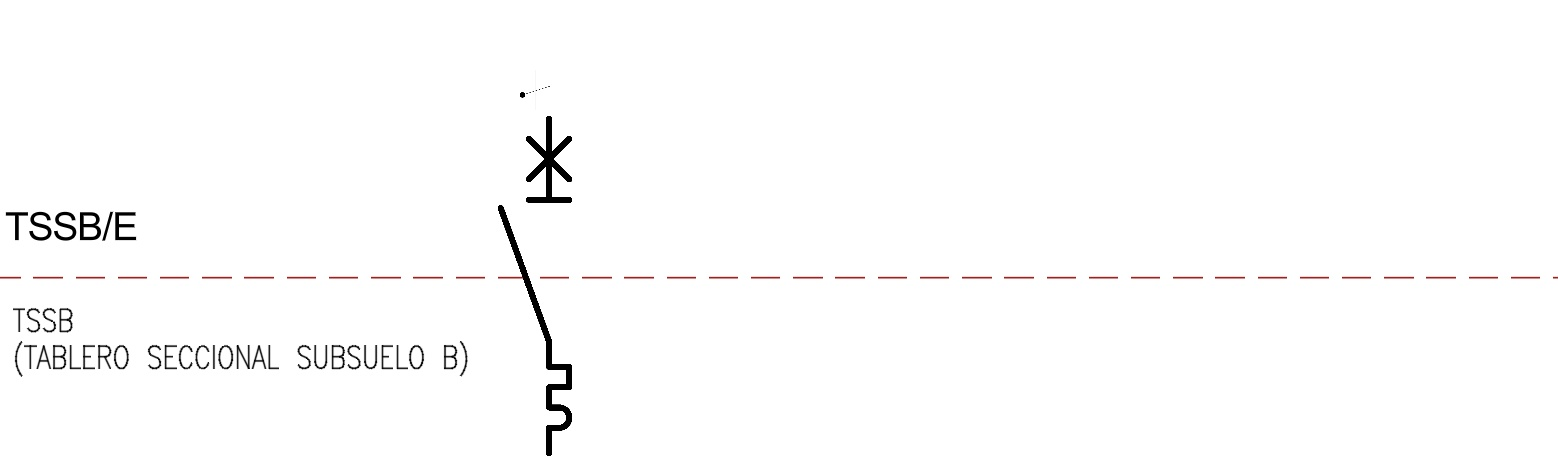interruptor_termomagnetico: (492, 109, 578, 461)
